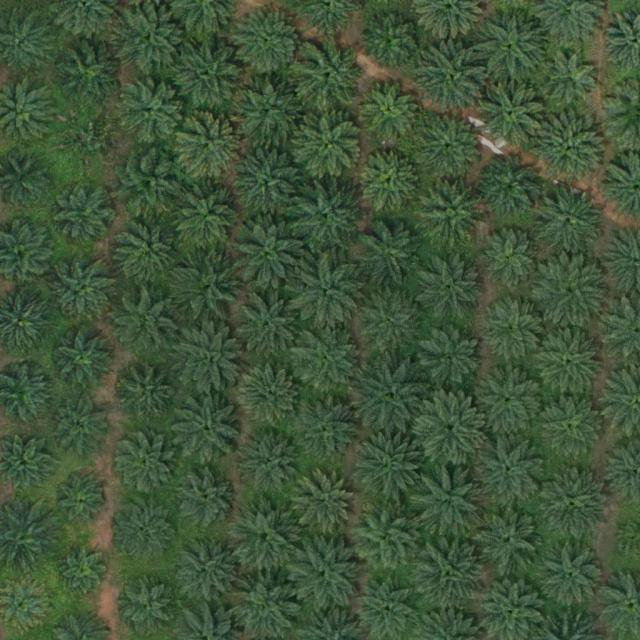Healthy: (234, 8, 305, 79), (295, 41, 366, 112), (477, 76, 548, 147), (534, 186, 605, 257), (537, 257, 608, 328), (292, 182, 363, 253), (171, 535, 242, 606), (415, 539, 486, 610), (114, 152, 185, 222), (294, 110, 364, 181), (416, 44, 486, 115), (416, 177, 486, 248), (477, 10, 547, 81), (536, 114, 607, 184), (538, 329, 608, 400), (415, 255, 485, 326), (417, 394, 487, 465), (415, 464, 485, 535), (357, 218, 427, 289), (358, 362, 428, 433), (354, 432, 424, 503), (293, 395, 363, 466), (235, 219, 305, 290), (172, 184, 242, 255), (174, 256, 244, 327), (172, 322, 242, 393), (170, 465, 241, 535), (51, 256, 121, 327), (292, 539, 362, 610), (350, 503, 420, 574), (53, 38, 123, 108), (115, 3, 185, 73), (116, 77, 186, 147), (175, 40, 245, 110), (176, 112, 246, 182), (232, 78, 302, 148), (236, 145, 306, 215), (414, 113, 484, 183), (539, 470, 609, 540), (476, 368, 546, 438), (479, 437, 549, 507), (355, 288, 425, 358), (294, 259, 364, 329), (294, 325, 364, 395), (233, 289, 303, 359), (172, 395, 242, 465), (229, 502, 299, 572), (475, 505, 545, 575), (362, 80, 425, 143), (237, 365, 300, 428), (240, 431, 303, 494), (114, 221, 177, 284), (112, 292, 175, 355), (542, 546, 605, 609), (364, 9, 426, 72), (360, 150, 422, 213), (479, 156, 541, 219), (541, 51, 603, 114), (541, 397, 603, 460), (479, 230, 542, 292), (482, 301, 545, 363), (295, 470, 357, 533), (114, 363, 176, 426), (114, 435, 177, 497), (114, 500, 177, 562), (56, 183, 118, 246), (52, 329, 114, 392), (50, 395, 113, 457), (422, 329, 484, 391), (58, 543, 113, 598), (66, 115, 120, 171)
Small: (58, 477, 105, 525)
